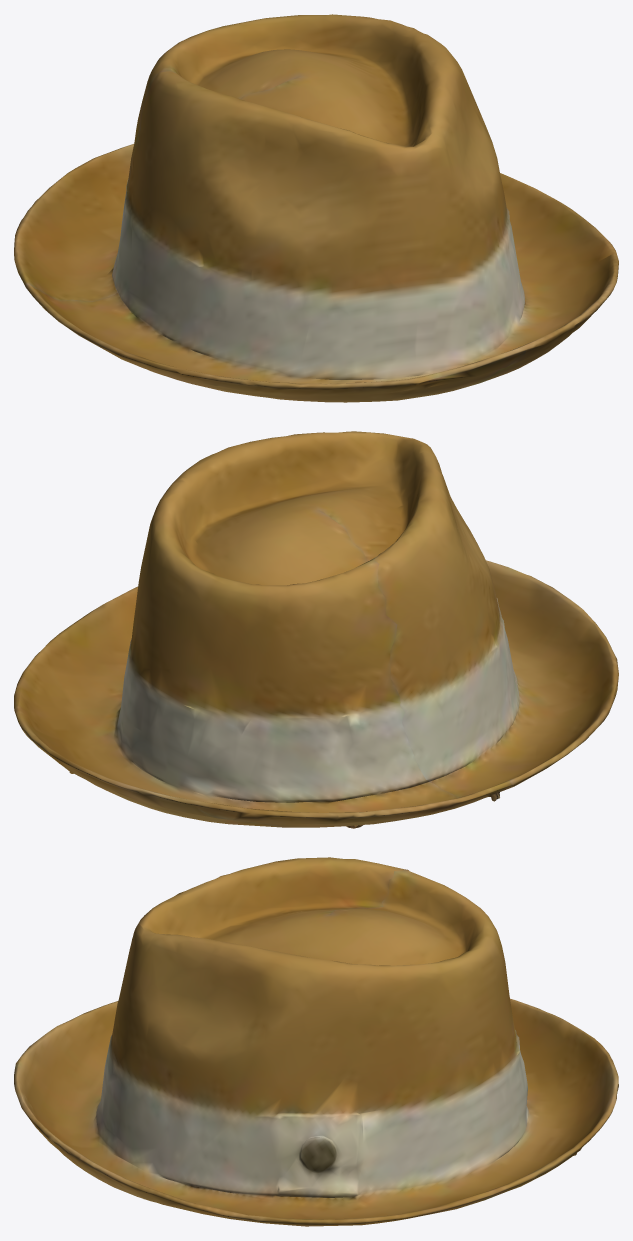
File: Retail_Leadership_Summit-high.glb
3 views of the same model, one above another, from view 1: azimuth 30°, elevation 25°; view 2: azimuth 150°, elevation 25°; view 3: azimuth 270°, elevation 25° (orthographic). The views are drawn at different scales.
Parts seen in each view (by area): view 1: Retail_Leadership_Summit; view 2: Retail_Leadership_Summit; view 3: Retail_Leadership_Summit.
Part boxes in pixels (x1,y1,x2,y2): Retail_Leadership_Summit: [14, 14, 618, 402]; Retail_Leadership_Summit: [14, 431, 618, 828]; Retail_Leadership_Summit: [14, 857, 618, 1226].
Bounding box in the file's own units: 0.2675 × 0.118 × 0.2885.
1 material, 1 textured.
